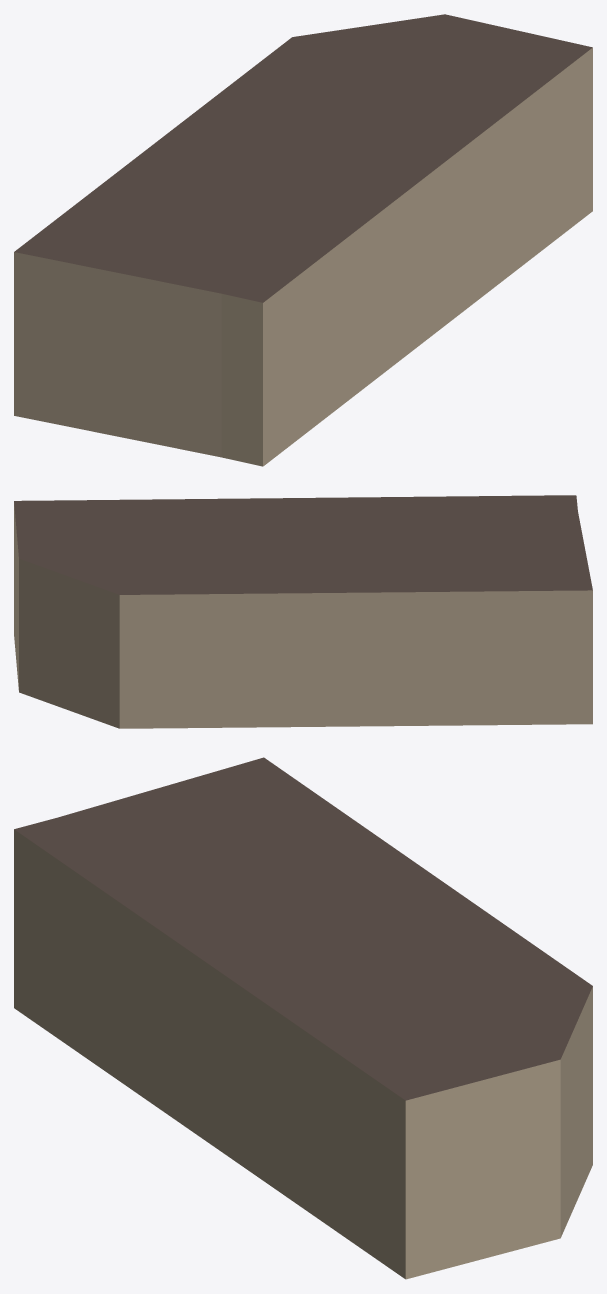
3 views of the same model, one above another, from view 1: azimuth 30°, elevation 25°; view 2: azimuth 150°, elevation 25°; view 3: azimuth 270°, elevation 25° (orthographic). The views are drawn at different scales.
Visible parts, largest first — view 1: HP-w1197065010; view 2: HP-w1197065010; view 3: HP-w1197065010.
Part boxes in pixels (<box>): HP-w1197065010: <box>14,14,592,466</box>; HP-w1197065010: <box>14,495,592,728</box>; HP-w1197065010: <box>14,757,592,1279</box>.
Size of the model in its own units: 37.03 by 9 by 26.4.
